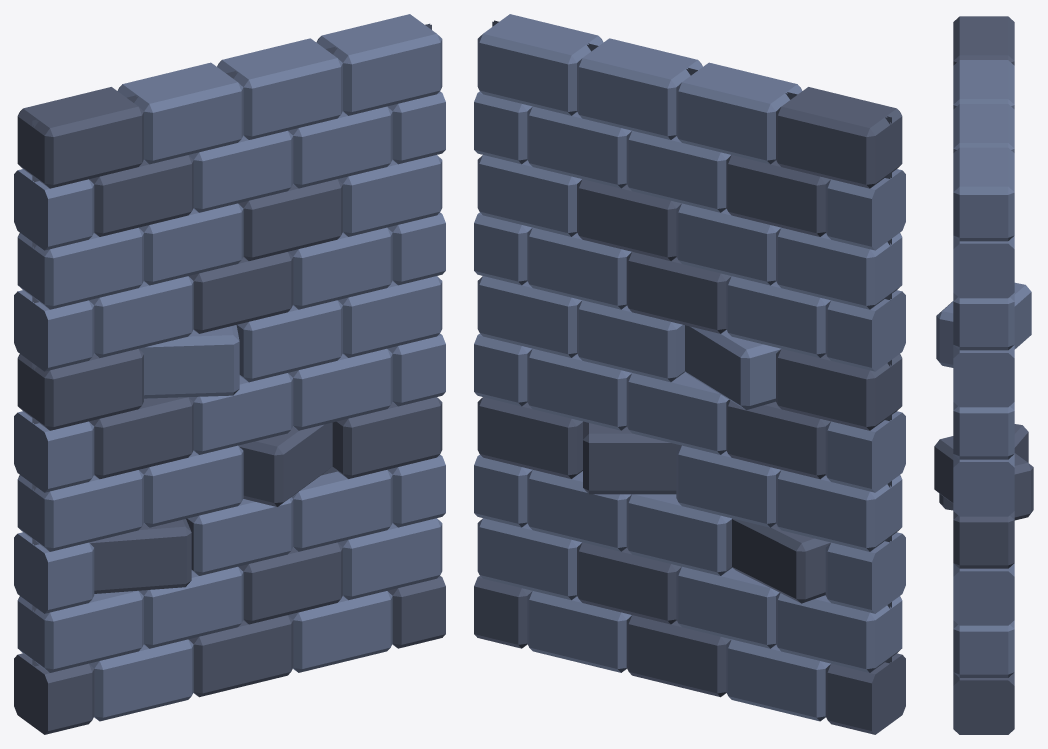
File: brick-wall-003.glb
3 renders of one model, left to right at view 1: azimuth 30°, elevation 25°; view 2: azimuth 150°, elevation 25°; view 3: azimuth 270°, elevation 25°, orthographic. The views are drawn at different scales.
Parts seen in each view (by area): view 1: brick wall.003; view 2: brick wall.003; view 3: brick wall.003.
Part boxes in pixels (x1,y1,x2,y2): brick wall.003: (14, 14, 445, 734); brick wall.003: (474, 14, 905, 734); brick wall.003: (934, 16, 1033, 734).
Size of the model in its own units: 2 by 2.91 by 0.4797.
